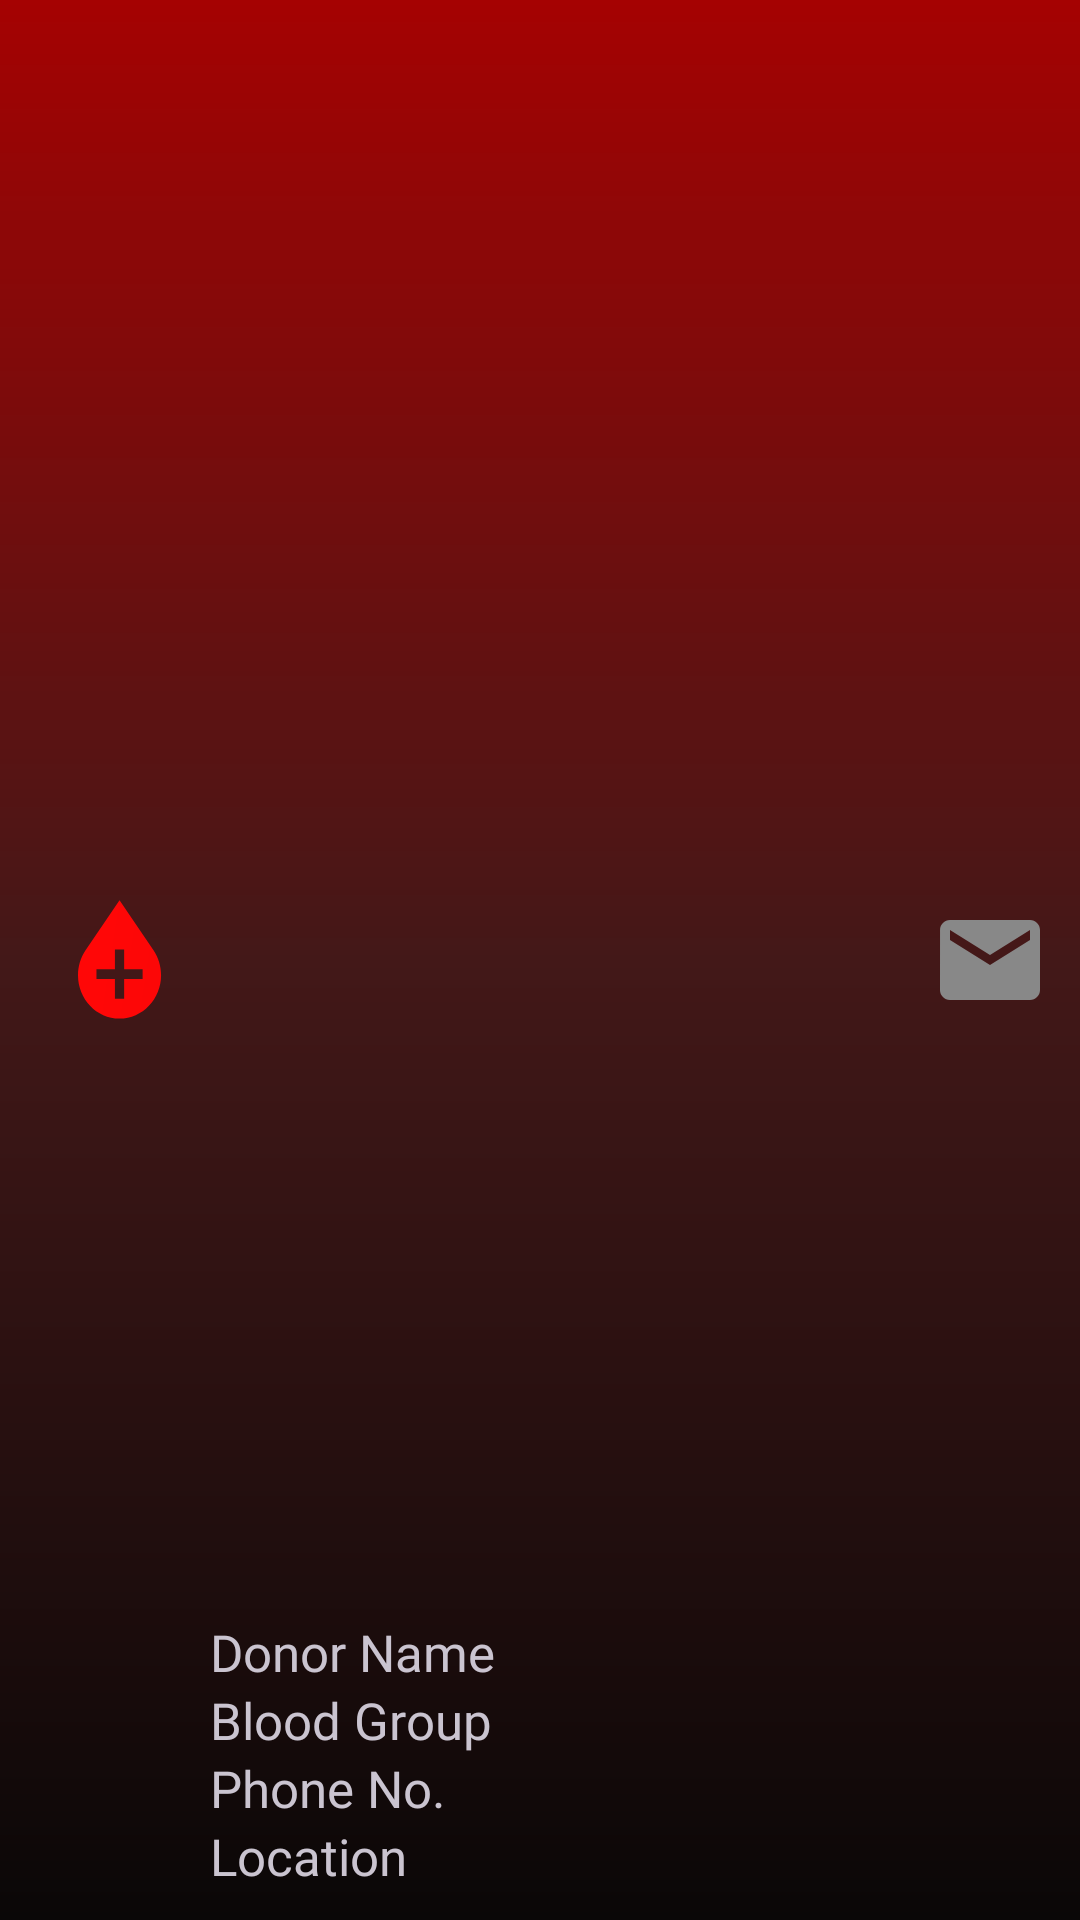

Screen size 1080w x 1920h. Icon name, then its box in pixels as [x1=x1, y1=y1, x2=x2, y2=y2]:
blood drop: [x1=78, y1=900, x2=161, y2=1019]
